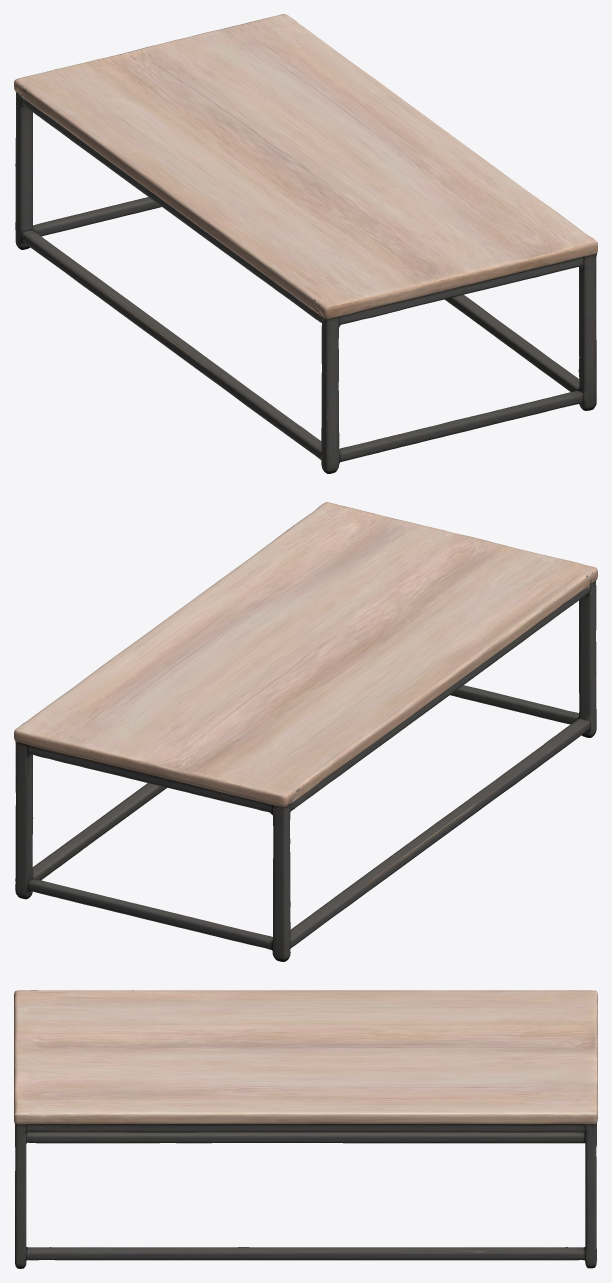
The model's file is desks2.glb.
3 views of the same model, one above another, from view 1: azimuth 30°, elevation 25°; view 2: azimuth 150°, elevation 25°; view 3: azimuth 270°, elevation 25° (orthographic). The views are drawn at different scales.
Parts seen in each view (by area): view 1: tripo_node_66d1b431.001; view 2: tripo_node_66d1b431.001; view 3: tripo_node_66d1b431.001.
Part boxes in pixels (x1,y1,x2,y2): tripo_node_66d1b431.001: [14, 14, 597, 473]; tripo_node_66d1b431.001: [14, 502, 597, 961]; tripo_node_66d1b431.001: [14, 990, 597, 1268].
Bounding box in the file's own units: 0.6 × 0.3532 × 1.19.
Materials: 1 (1 with a texture image).
